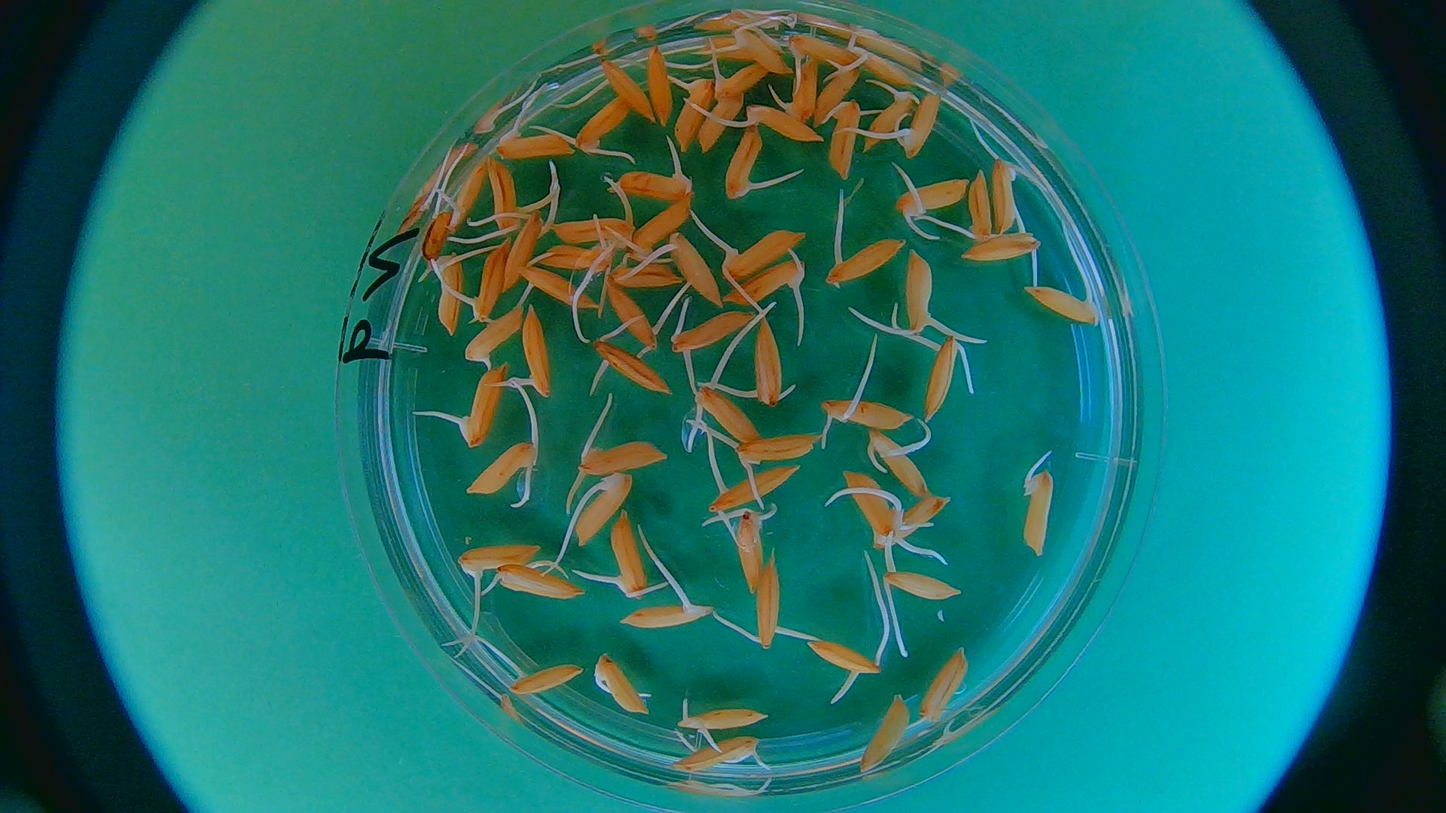no: (858, 695, 907, 774), (923, 647, 968, 720), (990, 160, 1023, 233), (509, 664, 584, 694), (423, 212, 453, 270)
yes: (593, 338, 679, 398), (844, 466, 906, 548), (609, 147, 698, 204), (718, 227, 803, 279), (870, 428, 932, 498), (667, 231, 724, 306), (573, 474, 633, 545), (825, 235, 905, 287), (691, 386, 760, 445), (725, 258, 808, 307), (624, 197, 695, 254), (551, 200, 639, 245), (706, 464, 792, 510), (594, 56, 652, 124), (500, 206, 544, 295), (904, 247, 947, 338), (667, 309, 757, 352), (515, 267, 600, 312), (607, 285, 665, 350), (469, 440, 536, 496), (671, 735, 766, 773), (473, 234, 511, 327), (894, 90, 944, 160), (467, 309, 526, 368), (590, 656, 647, 717), (729, 24, 793, 78), (862, 85, 912, 154), (457, 365, 503, 440), (419, 251, 460, 335), (518, 304, 555, 396), (609, 513, 648, 600), (496, 565, 587, 602), (572, 98, 629, 157), (899, 176, 969, 224), (813, 62, 864, 127), (642, 38, 680, 125), (730, 507, 770, 588), (921, 334, 959, 419), (726, 129, 772, 199), (889, 492, 947, 547), (578, 438, 666, 474), (742, 106, 823, 145), (752, 321, 789, 406), (1022, 470, 1058, 557), (674, 77, 714, 155), (447, 152, 484, 235), (828, 99, 863, 185), (825, 398, 908, 434), (755, 555, 786, 650), (486, 159, 528, 229), (694, 90, 742, 151), (618, 598, 709, 629), (459, 543, 541, 577), (966, 232, 1043, 268), (957, 167, 993, 243), (496, 123, 574, 158), (848, 47, 916, 87), (783, 32, 857, 68), (737, 431, 811, 467), (885, 569, 961, 604), (1025, 287, 1093, 324), (673, 705, 765, 732), (810, 641, 880, 676), (615, 253, 682, 289), (782, 57, 820, 119), (712, 58, 765, 101), (537, 244, 614, 273)
